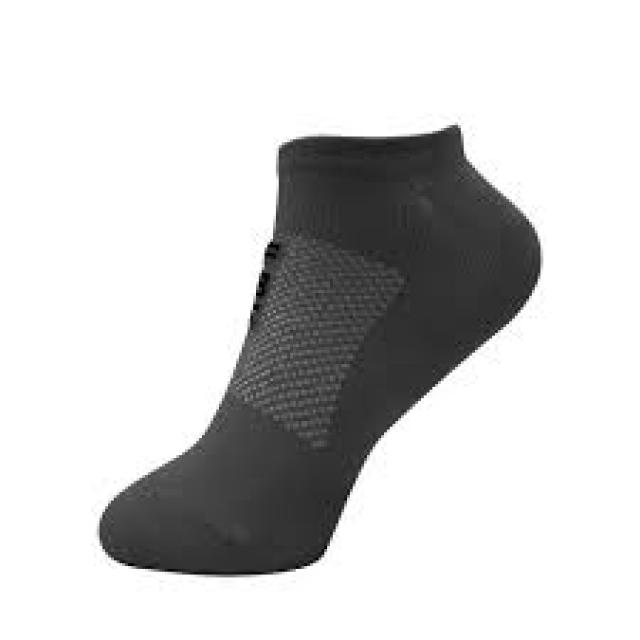sock: (97, 122, 540, 575)
